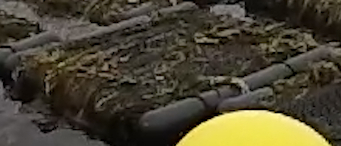bag: (4, 1, 337, 132)
